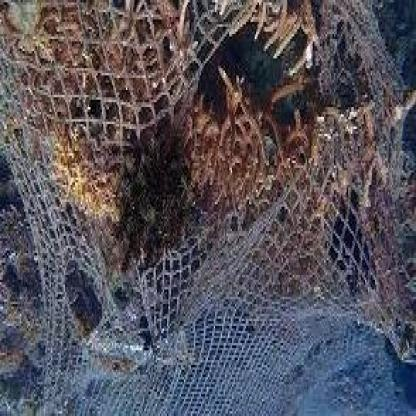net: (4, 3, 416, 411)
